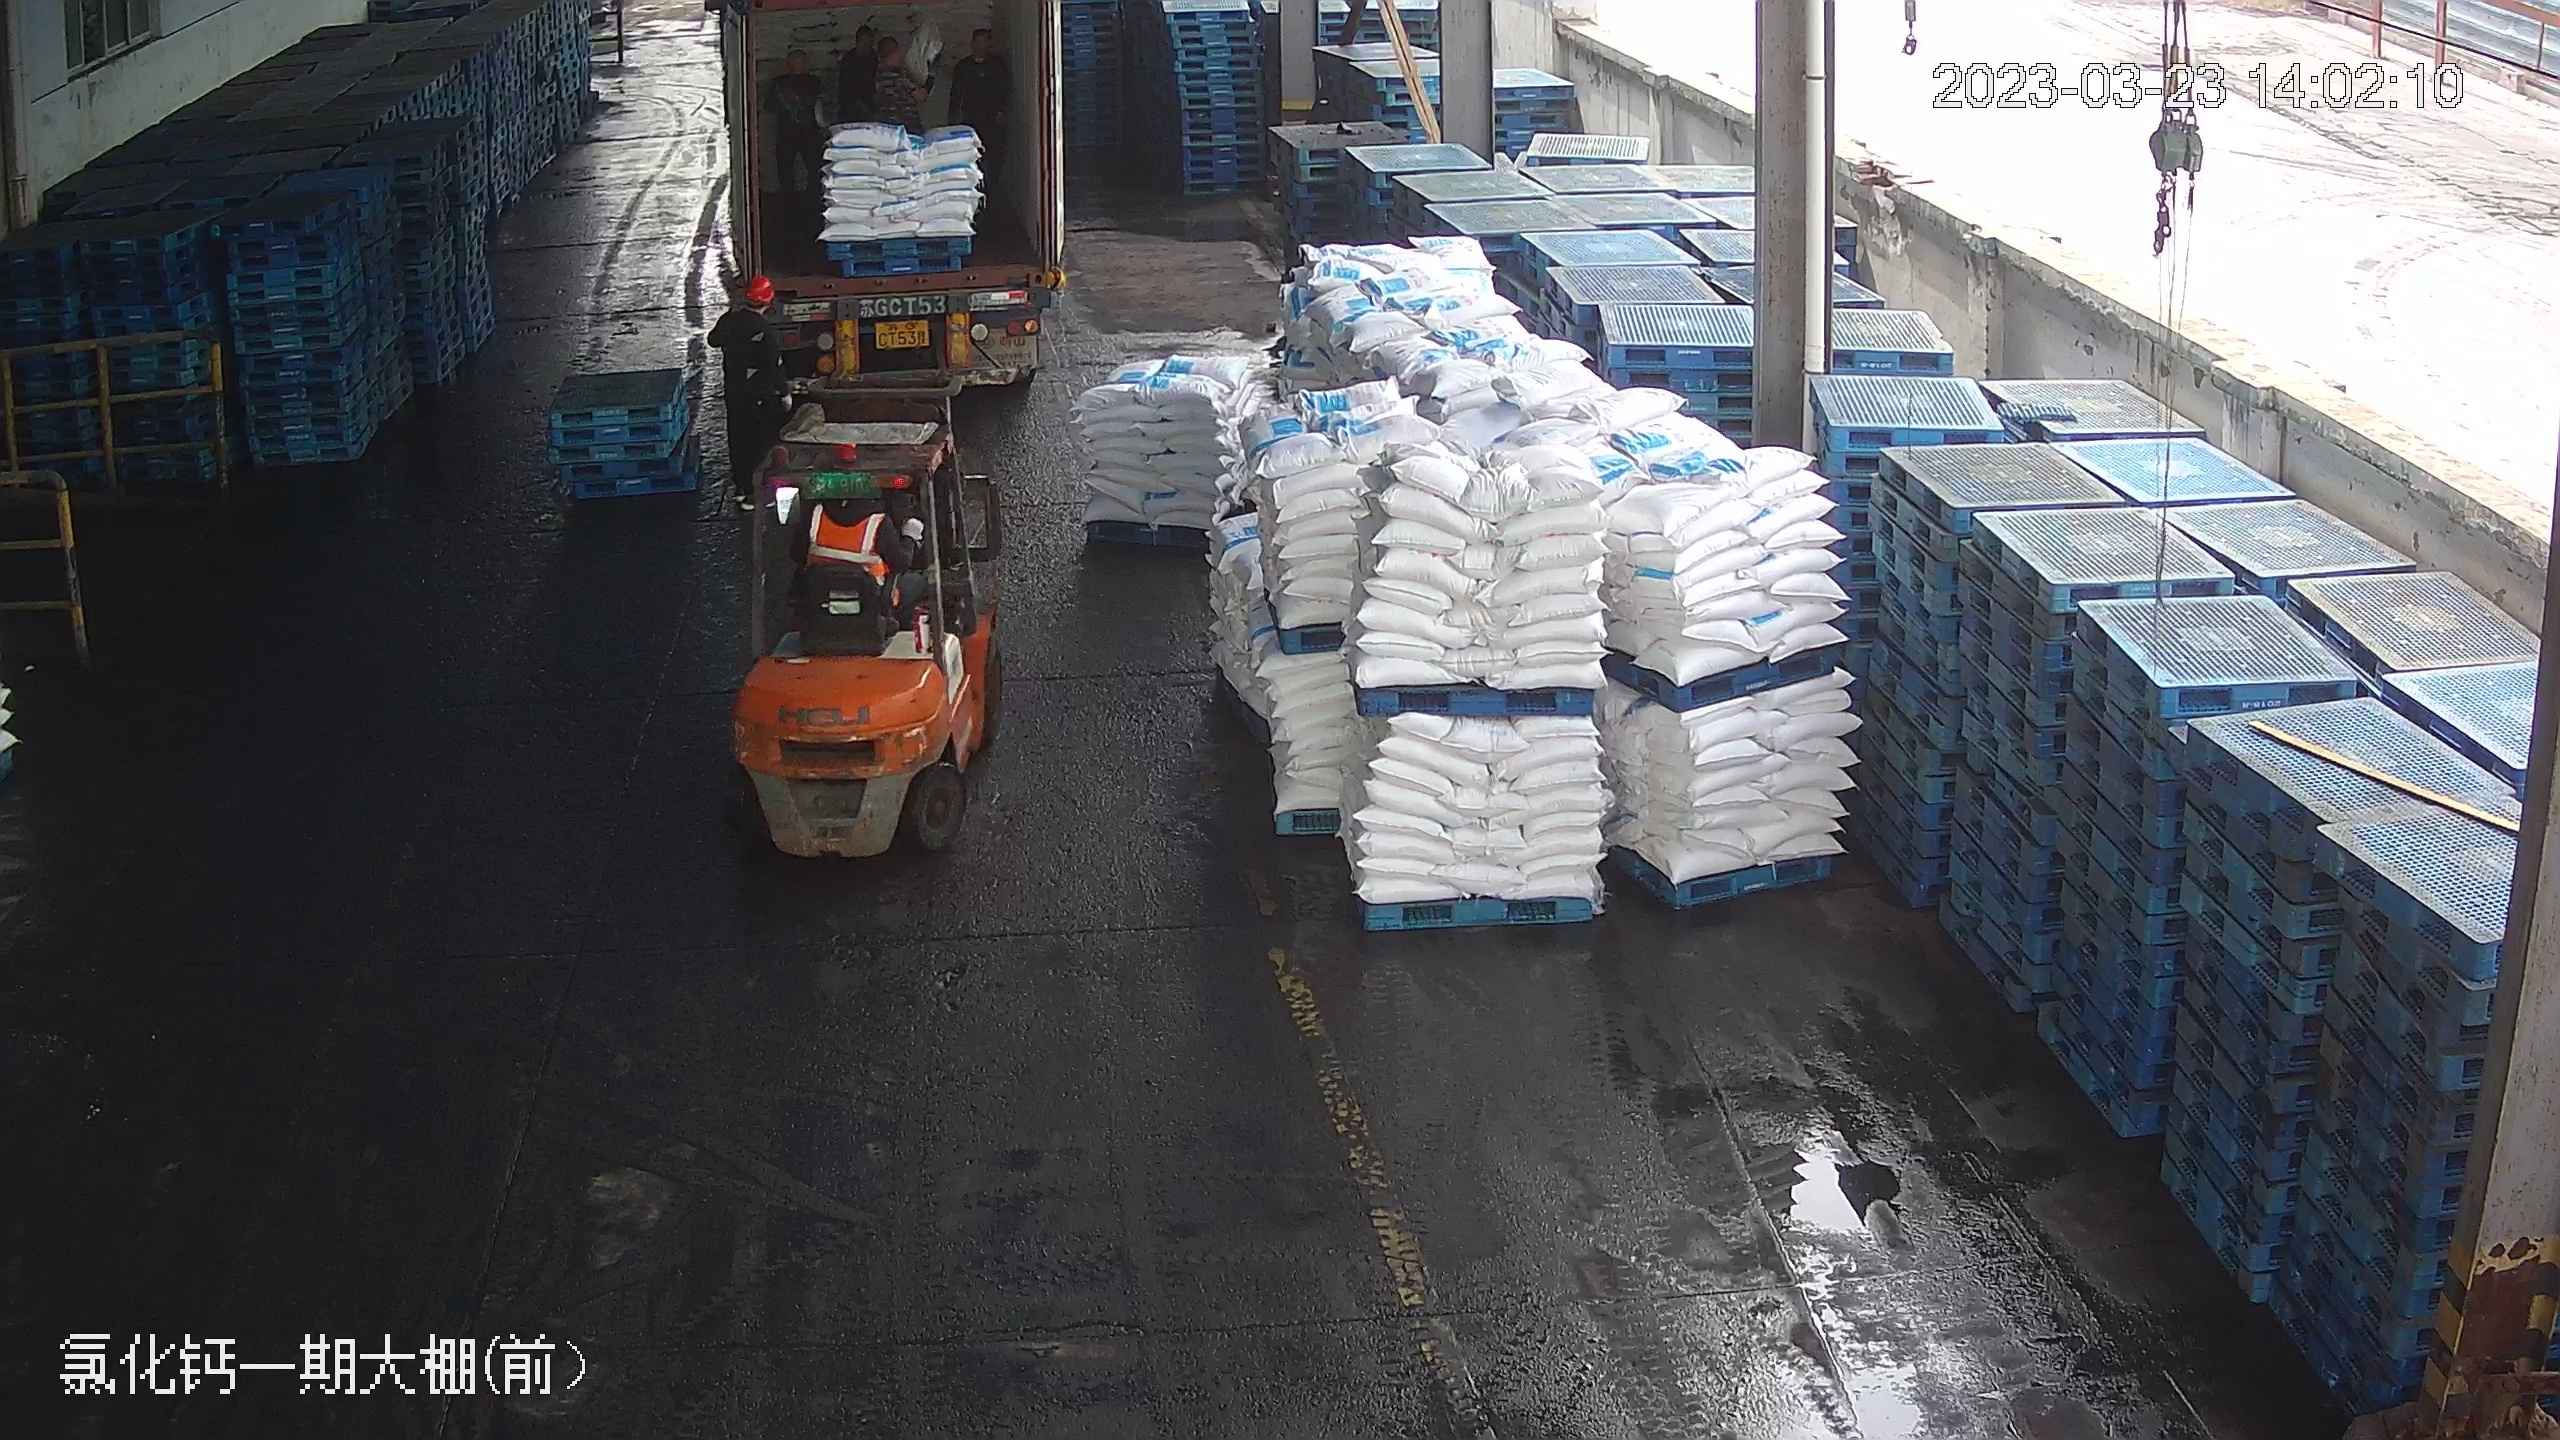head: (718, 273, 783, 344), (768, 47, 824, 113), (873, 35, 920, 102), (956, 28, 1009, 78), (836, 27, 879, 85)
helmet: (746, 273, 776, 298)
people: (713, 268, 782, 494), (766, 45, 826, 207), (952, 33, 1014, 154), (871, 36, 932, 131), (839, 23, 878, 119)
truck: (740, 19, 1073, 396)
